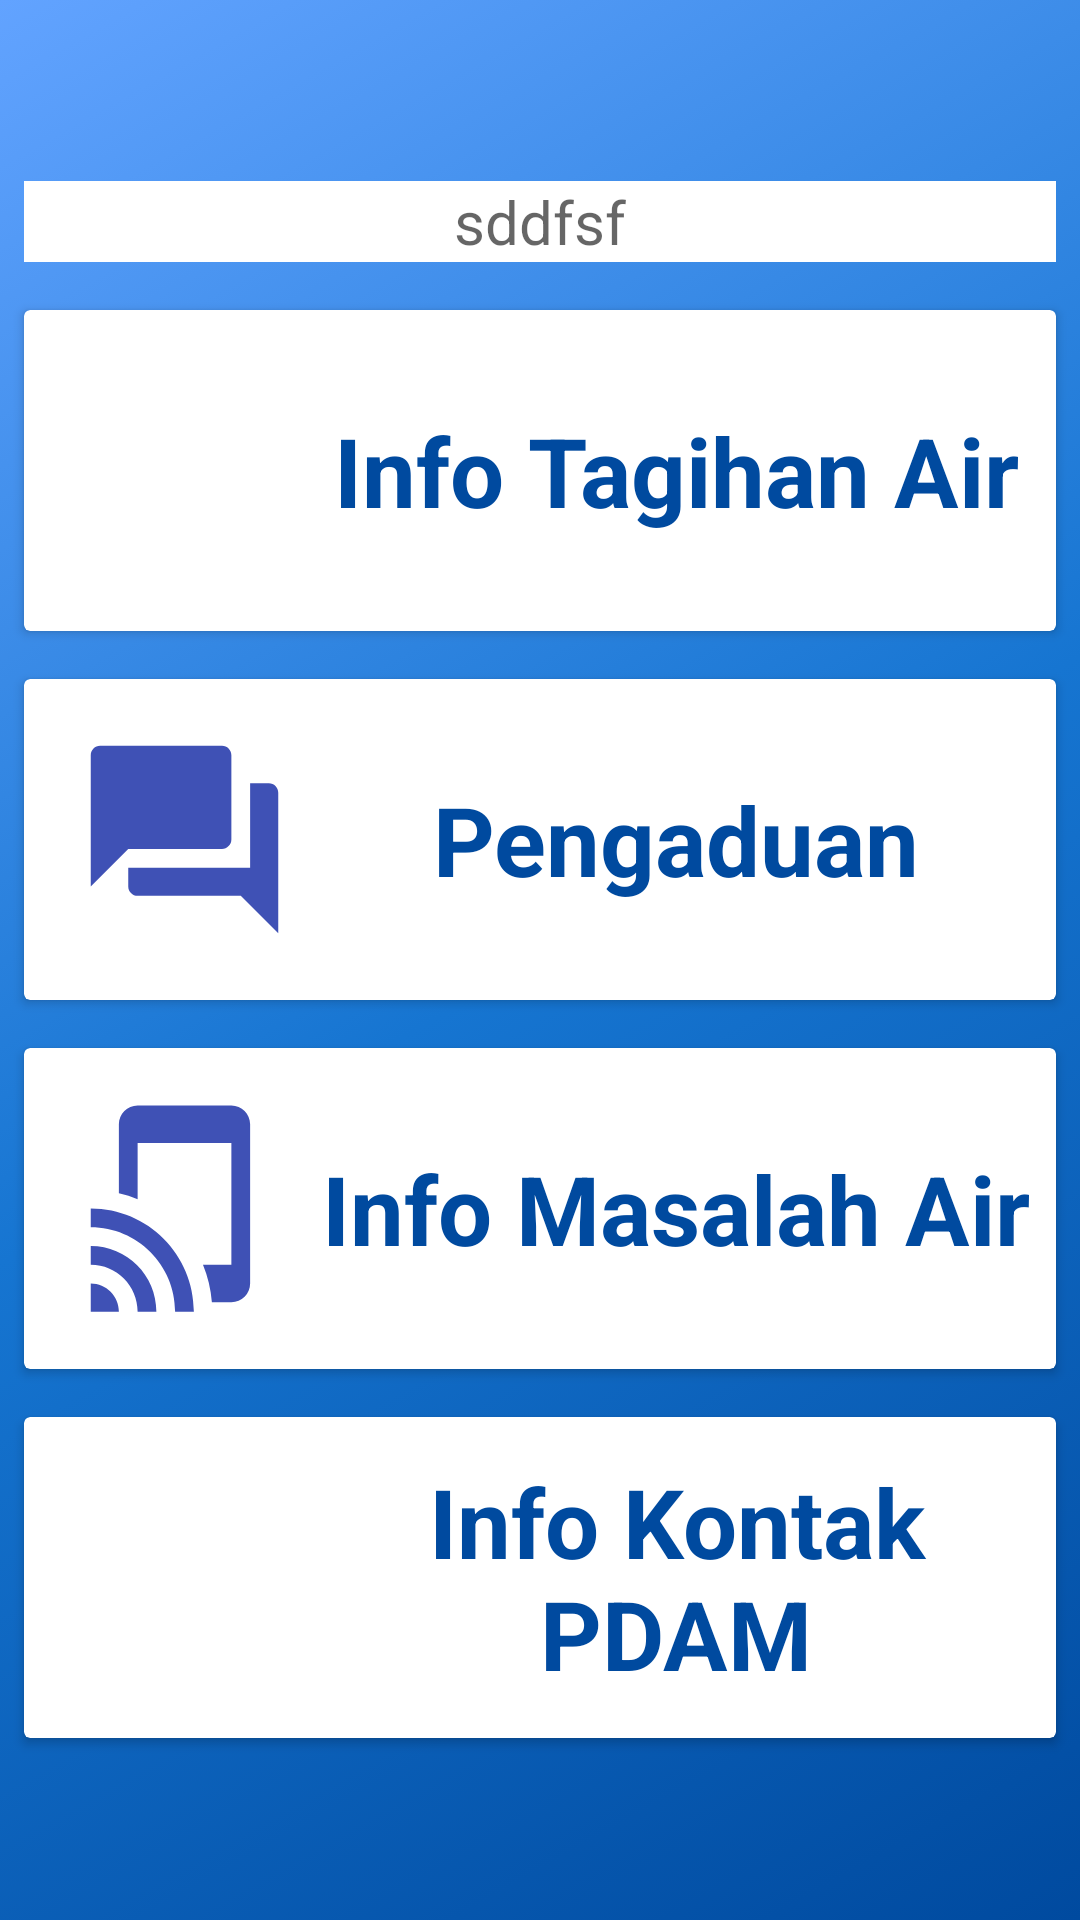

Where to tap for icons on this 1080px×1920px app screen, as [x,y]:
forum: [184,839]
tap and play: [170,1208]
